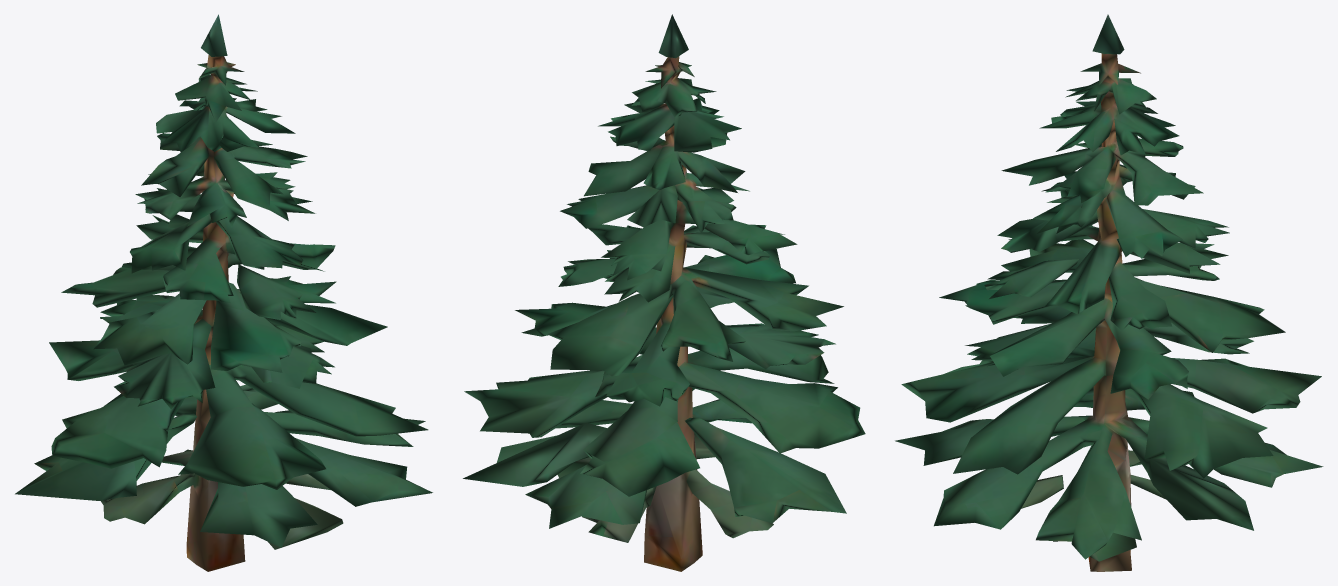
File: pine_tree.glb
3 views of the same model, side by side, from view 1: azimuth 30°, elevation 25°; view 2: azimuth 150°, elevation 25°; view 3: azimuth 270°, elevation 25° (orthographic).
Visible parts, largest first — view 1: tripo_node_abca4ab0-7bbd-4ed6-8e4a-d8d394bdc99b; view 2: tripo_node_abca4ab0-7bbd-4ed6-8e4a-d8d394bdc99b; view 3: tripo_node_abca4ab0-7bbd-4ed6-8e4a-d8d394bdc99b.
Part boxes in pixels (box(x1,y1,x2,y2)): tripo_node_abca4ab0-7bbd-4ed6-8e4a-d8d394bdc99b: box(15, 14, 432, 571); tripo_node_abca4ab0-7bbd-4ed6-8e4a-d8d394bdc99b: box(463, 14, 865, 571); tripo_node_abca4ab0-7bbd-4ed6-8e4a-d8d394bdc99b: box(895, 14, 1323, 571).
Bounding box in the file's own units: 0.6945 × 0.9407 × 0.6653.
1 material, 1 textured.
